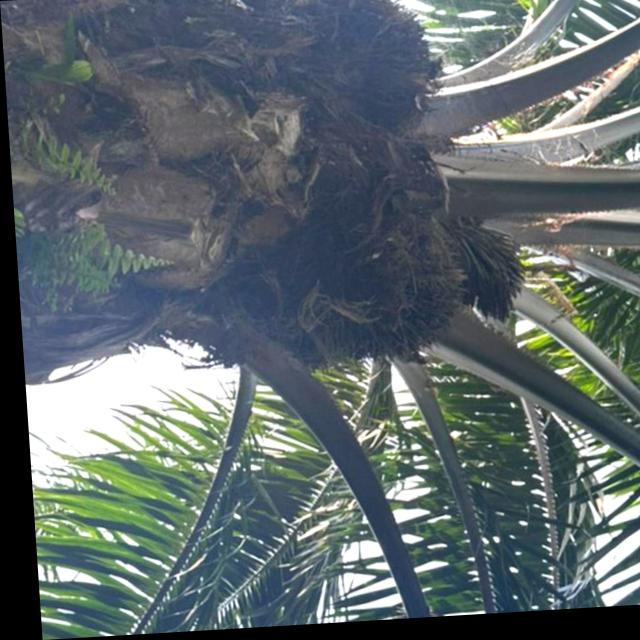almost: (268, 204, 473, 378)
